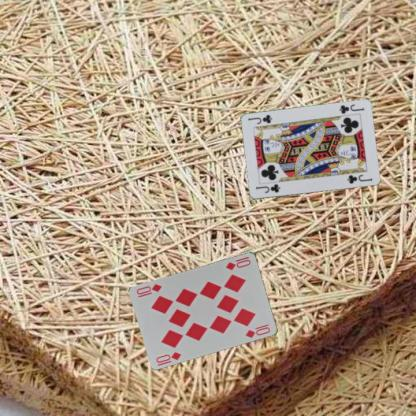10d: (154, 349, 182, 364), (223, 257, 252, 271)
Jc: (336, 102, 365, 115), (253, 182, 281, 194)
